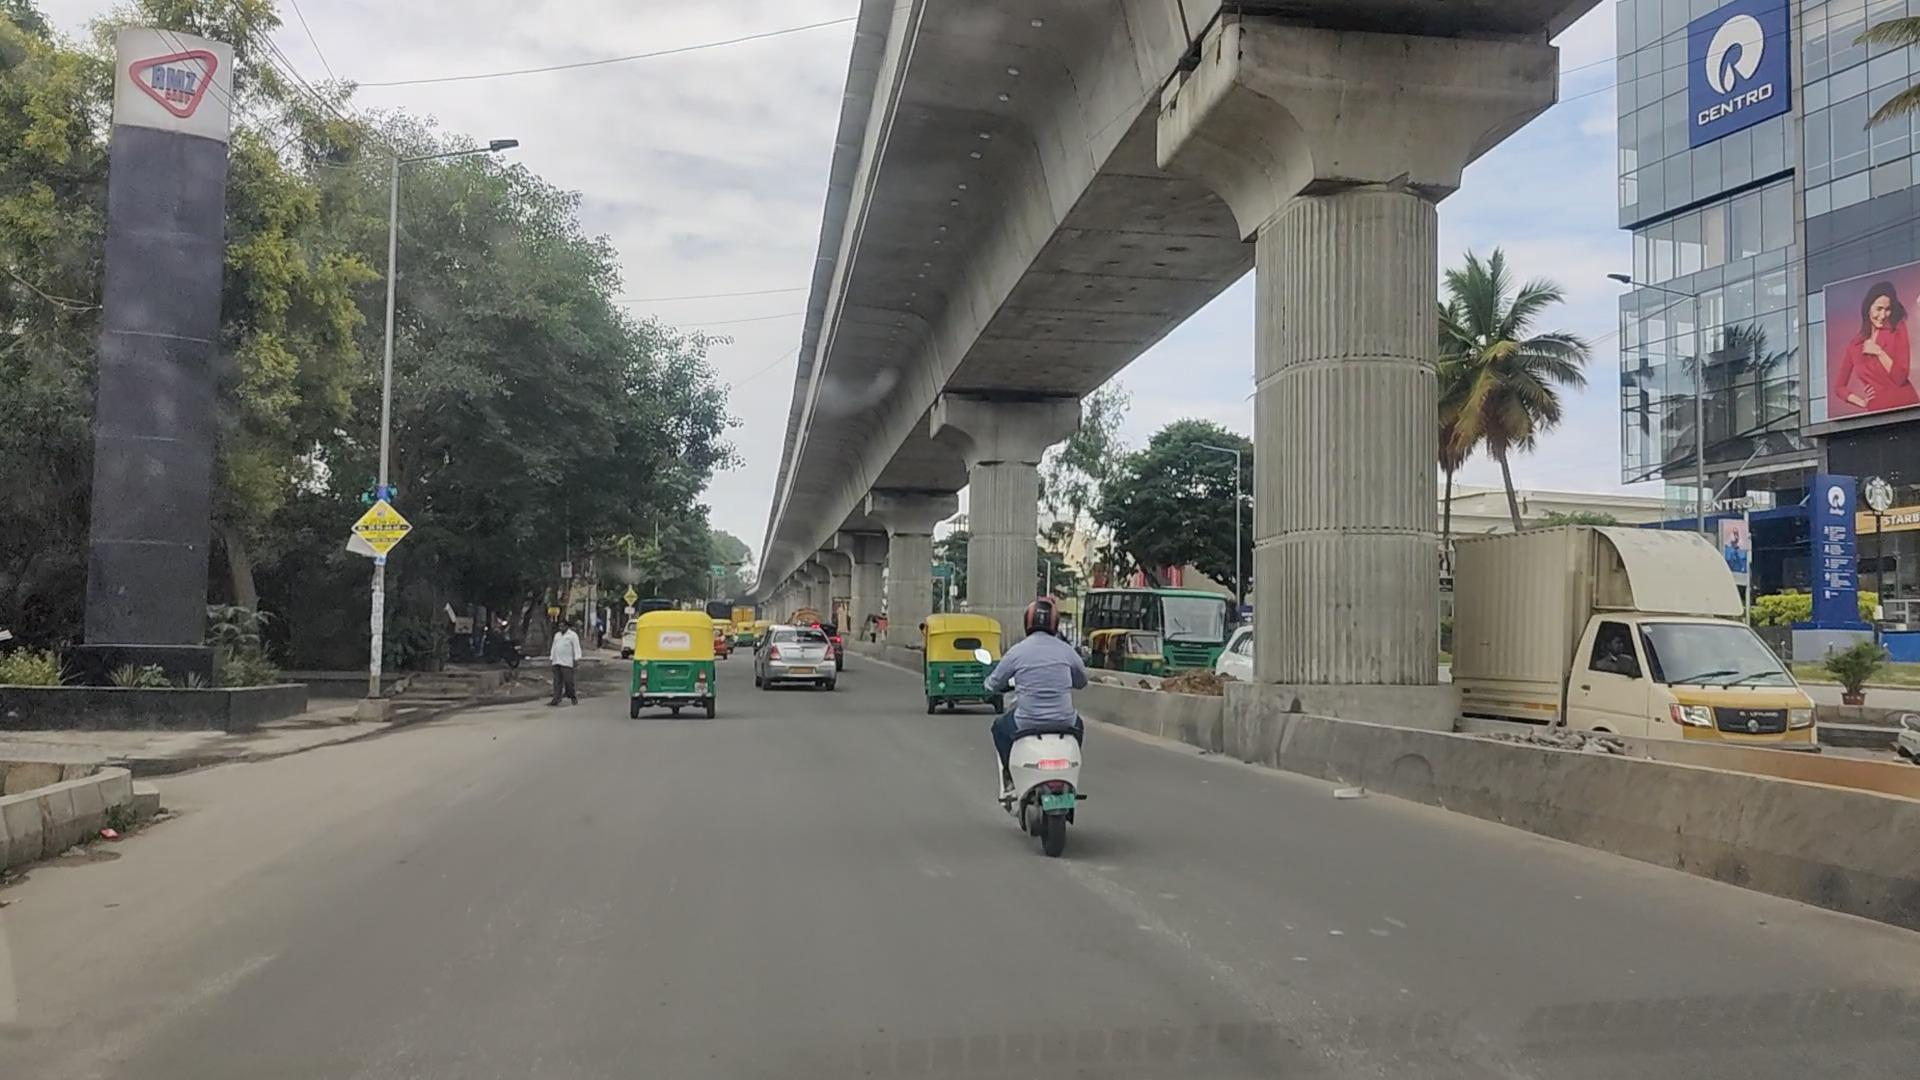LMV: (988, 585, 1104, 861), (628, 604, 717, 716)
